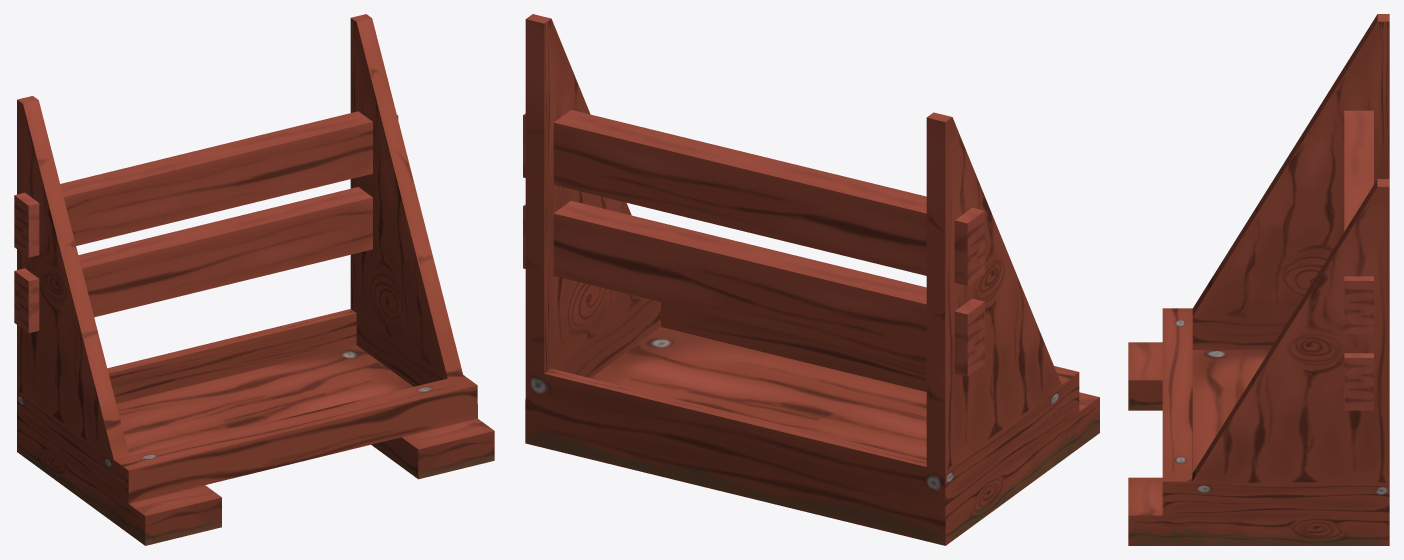
File: weapon_stand_0.fbx
3 views of the same model, side by side, from view 1: azimuth 30°, elevation 25°; view 2: azimuth 150°, elevation 25°; view 3: azimuth 270°, elevation 25° (orthographic). The views are drawn at different scales.
Visible parts, largest first — view 1: Cube; view 2: Cube; view 3: Cube.
Boxes of the visible parts, x1=… form: Cube: x1=14, y1=14, x2=494, y2=545; Cube: x1=523, y1=14, x2=1099, y2=545; Cube: x1=1128, y1=14, x2=1389, y2=545.
Bounding box in the file's own units: 133 × 122 × 80.25.
